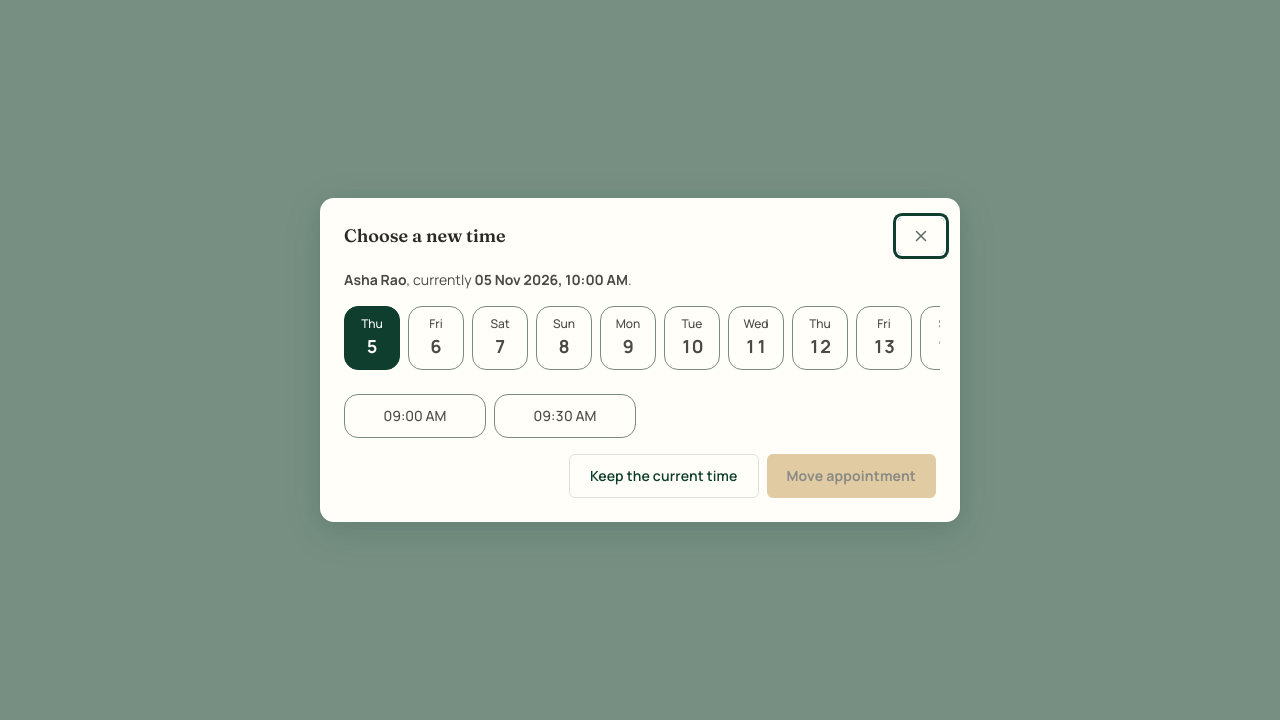
RescheduleDialog › shows the server's reason when the move is not allowed
Click the button "09:30 AM" at [565, 416], box left=494, top=394, right=636, bottom=438
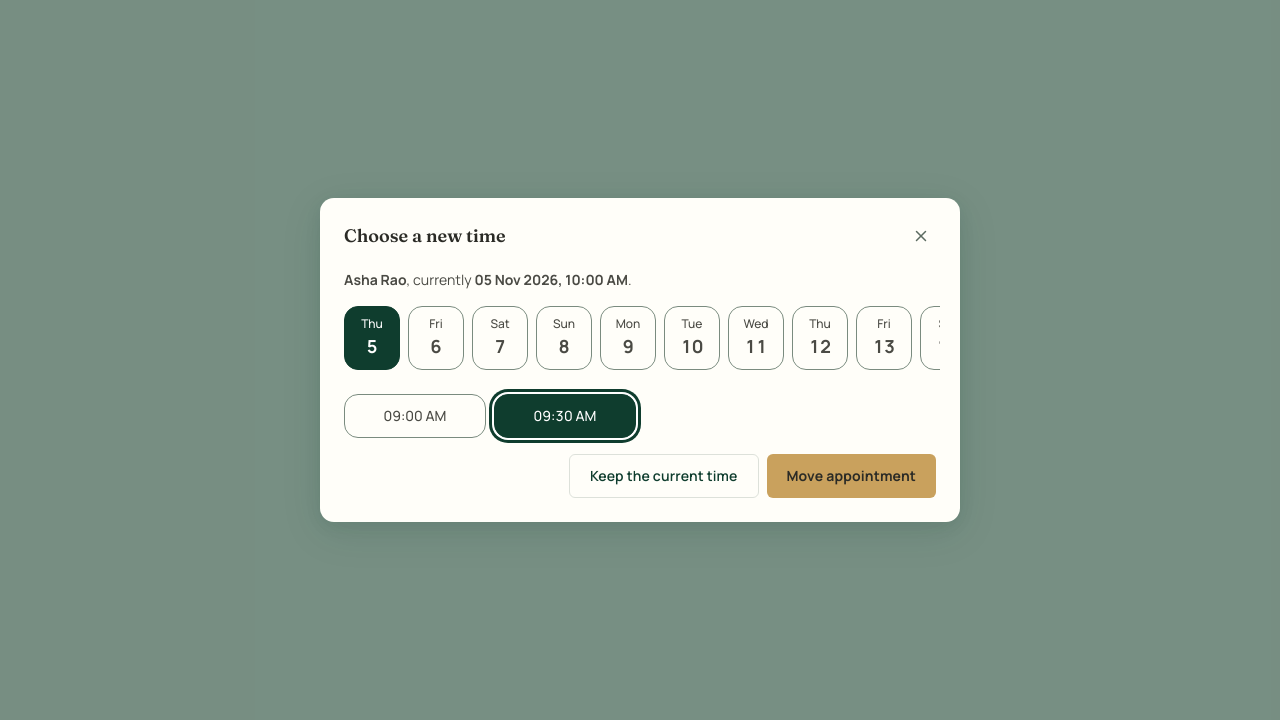
Click the button "Move appointment" at [851, 476], box left=766, top=454, right=936, bottom=498
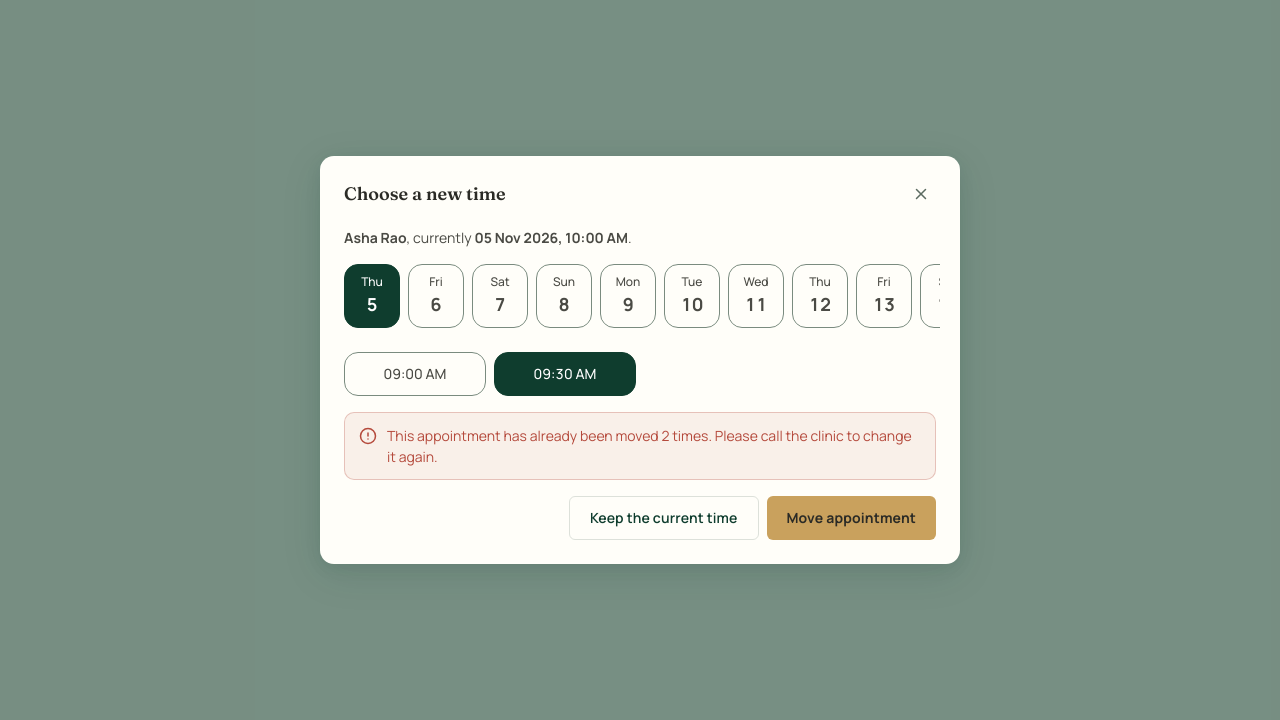
Result: the message shows "already been moved 2 times" at left=387, top=426, right=912, bottom=466
